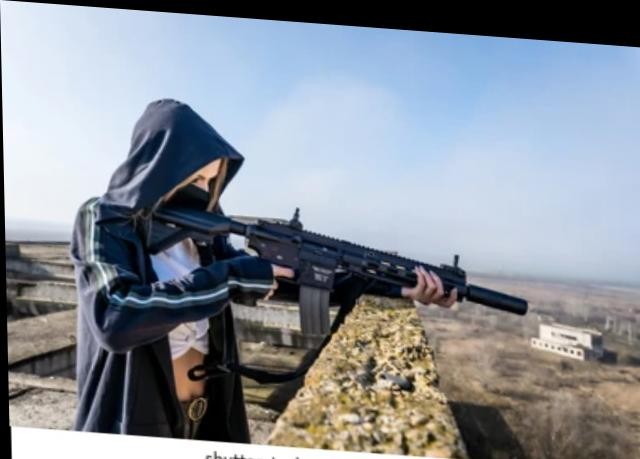other: (76, 99, 253, 432)
